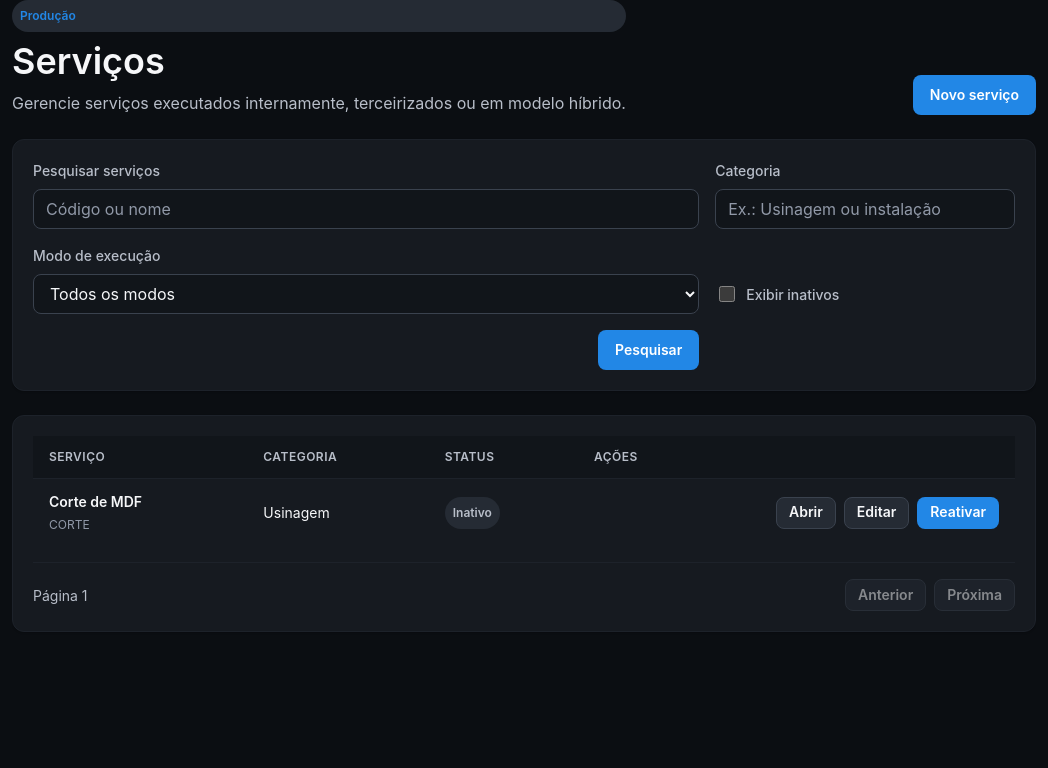
Test case: ServicesRoute › reativa um serviço inativo
The width and height of the screenshot is (1048, 768).
Expected: the button "Corte de MDF" is shown, x1=49 y1=491 x2=142 y2=512
Click the button "Reativar".
click(958, 513)  # box x1=917 y1=497 x2=999 y2=529
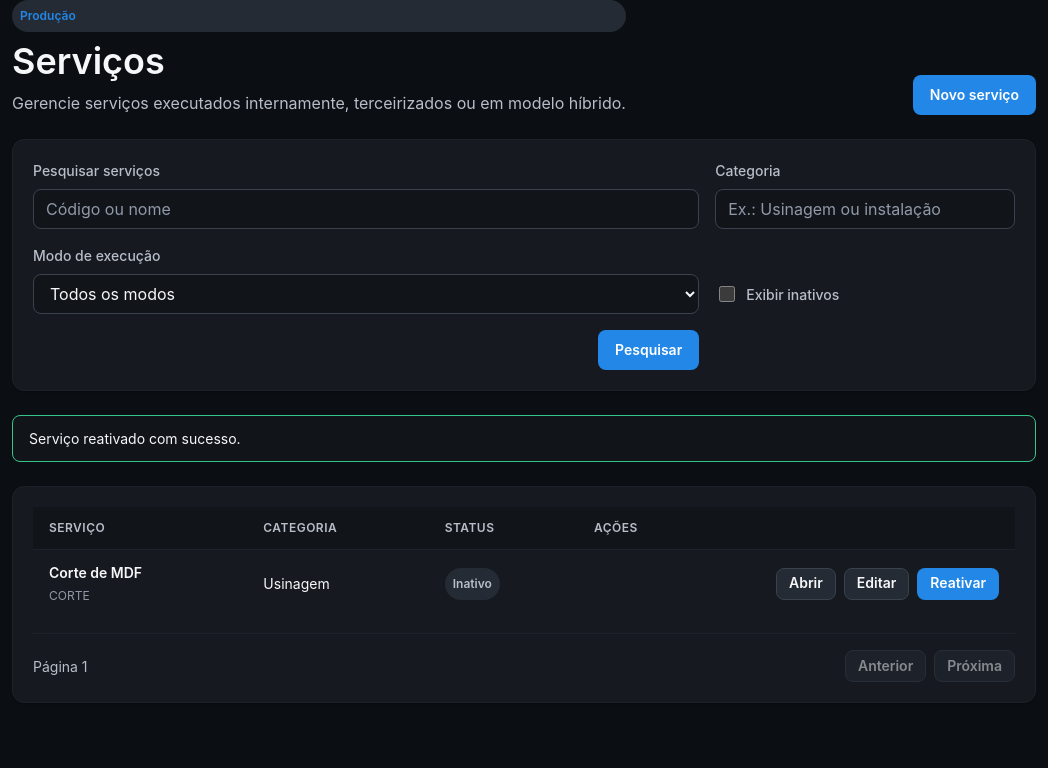
Now the text "Serviço reativado com sucesso." is shown, box x1=12 y1=415 x2=1036 y2=462
